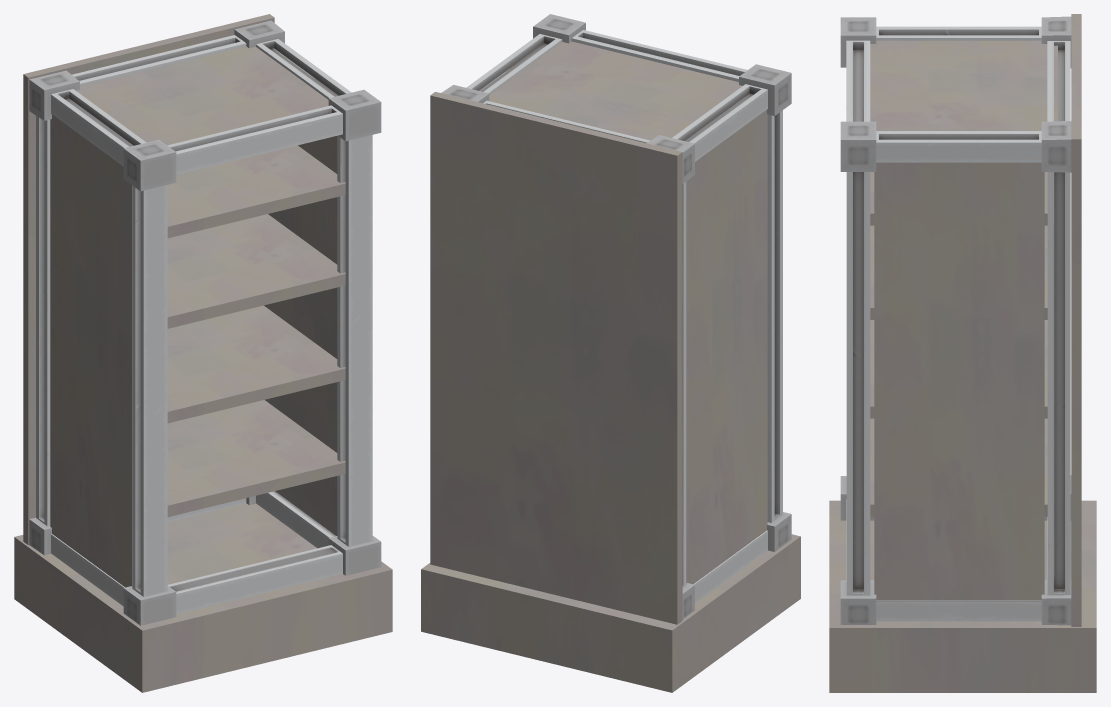
Rendered from Pfb_Server.fbx.
The picture shows the model from 3 angles, left to right: view 1: azimuth 30°, elevation 25°; view 2: azimuth 150°, elevation 25°; view 3: azimuth 270°, elevation 25°; orthographic projection. The views are drawn at different scales.
Visible parts, largest first — view 1: Mat_Tile_Color_07, Mat_SteelFrame_01 7; view 2: Mat_Tile_Color_07, Mat_SteelFrame_01 7; view 3: Mat_Tile_Color_07, Mat_SteelFrame_01 7.
Part boxes in pixels (<box>): Mat_Tile_Color_07: <box>14,14,392,692</box>; Mat_SteelFrame_01 7: <box>29,20,381,625</box>; Mat_Tile_Color_07: <box>421,41,800,692</box>; Mat_SteelFrame_01 7: <box>441,14,791,619</box>; Mat_Tile_Color_07: <box>829,14,1096,692</box>; Mat_SteelFrame_01 7: <box>840,16,1071,625</box>.
Bounding box in the file's own units: 1.23 × 2.49 × 1.09.
2 materials, 2 textured.
